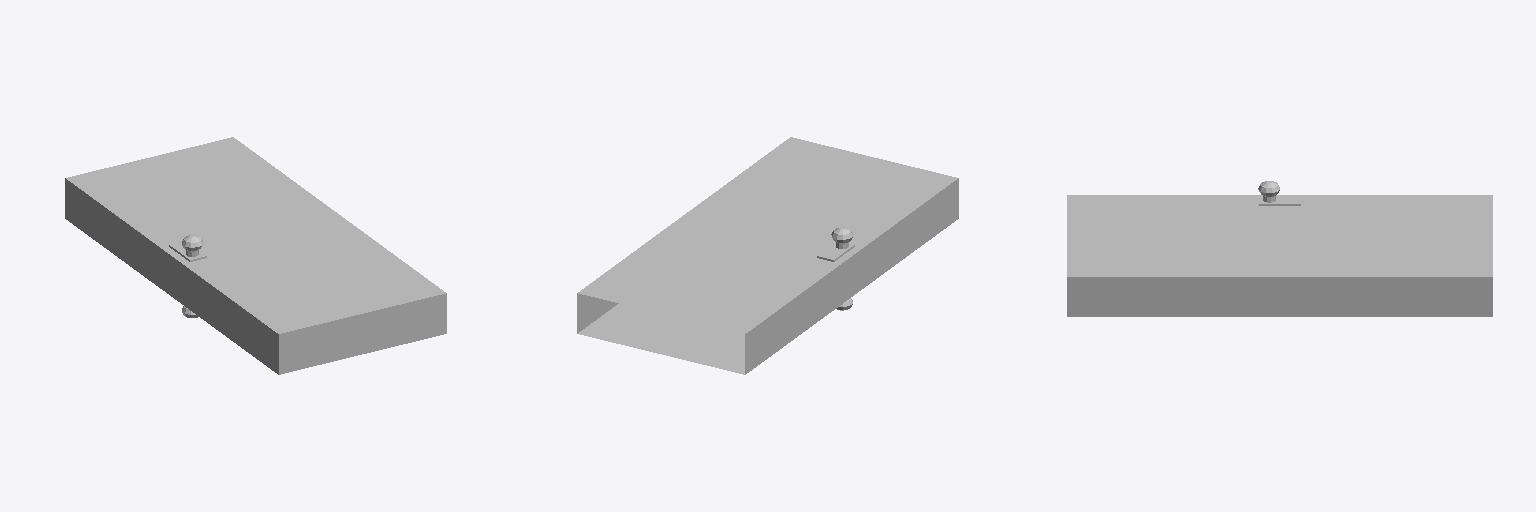
Rendered from f_Door.obj.
3 renders of one model, left to right at view 1: azimuth 30°, elevation 25°; view 2: azimuth 150°, elevation 25°; view 3: azimuth 270°, elevation 25°, orthographic.
Visible parts, largest first — view 1: Door.001; view 2: Door.001; view 3: Door.001.
Part boxes in pixels (x1,y1,x2,y2): Door.001: (65,137,446,374); Door.001: (577,137,958,374); Door.001: (1067,181,1492,316).
Bounding box in the file's own units: 8.65 × 4 × 19.